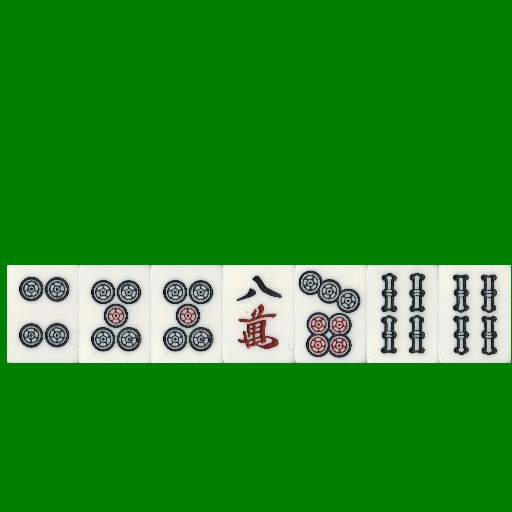4p: (7, 265, 79, 363)
4s: (367, 265, 439, 363), (439, 265, 511, 363)
5p: (79, 265, 151, 363), (151, 265, 223, 363)
7p: (295, 265, 367, 363)
8m: (223, 265, 295, 363)
